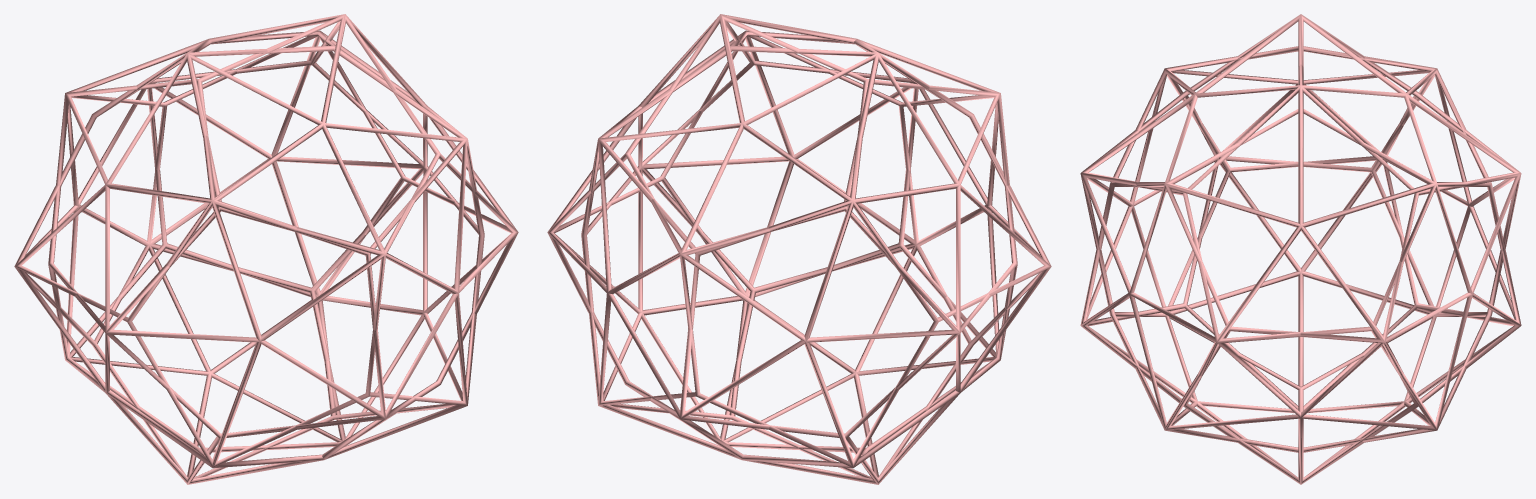
The model's file is SmallIcosacronicHexecontahedron2.glb.
The picture shows the model from 3 angles, left to right: view 1: azimuth 30°, elevation 25°; view 2: azimuth 150°, elevation 25°; view 3: azimuth 270°, elevation 25°; orthographic projection. The views are drawn at different scales.
Parts seen in each view (by area): view 1: SmallIcosacronicHexecontahedron; view 2: SmallIcosacronicHexecontahedron; view 3: SmallIcosacronicHexecontahedron.
Boxes of the visible parts, x1,y1,x2,y2 form: SmallIcosacronicHexecontahedron: (14, 14, 518, 484); SmallIcosacronicHexecontahedron: (547, 14, 1051, 484); SmallIcosacronicHexecontahedron: (1080, 14, 1521, 484).
Bounding box in the file's own units: 3.66 × 3.66 × 3.66.
